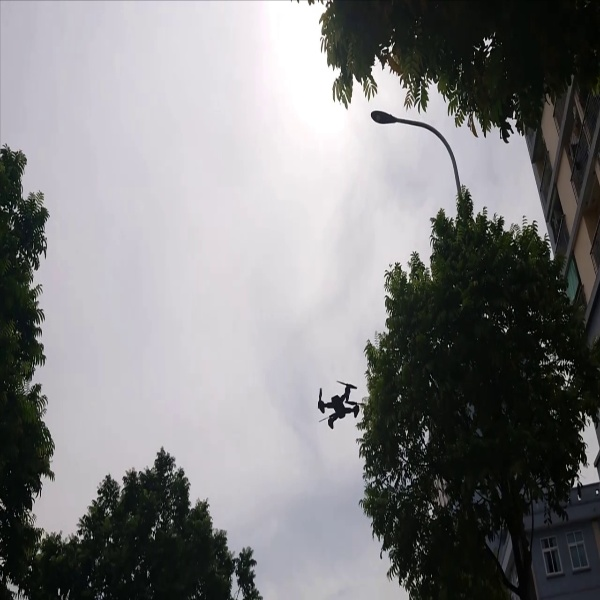drone: (310, 376, 365, 429)
